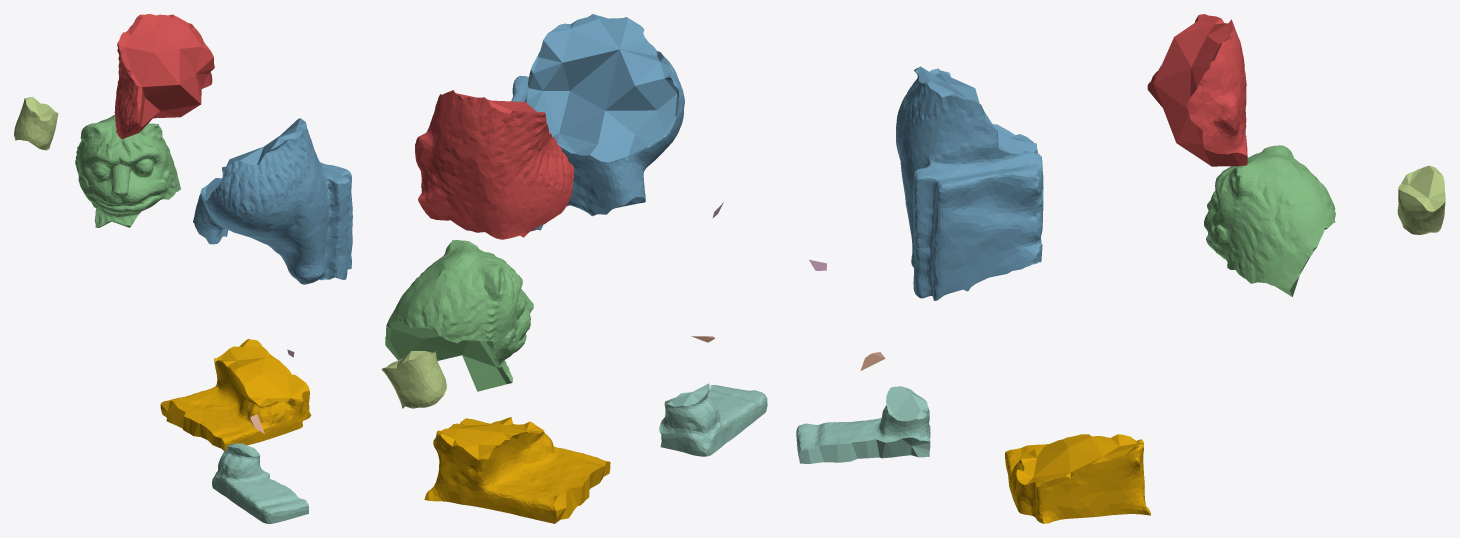
The model's file is mode_6_8pcs_transformed.glb.
The picture shows the model from 3 angles, left to right: view 1: azimuth 30°, elevation 25°; view 2: azimuth 150°, elevation 25°; view 3: azimuth 270°, elevation 25°; orthographic projection. The views are drawn at different scales.
Visible parts, largest first — view 1: piece_2.obj, piece_0.obj, piece_1.obj, piece_3.obj, piece_4.obj, piece_5.obj; view 2: piece_2.obj, piece_1.obj, piece_3.obj, piece_0.obj, piece_4.obj, piece_5.obj; view 3: piece_2.obj, piece_3.obj, piece_1.obj, piece_0.obj, piece_4.obj, piece_5.obj.
Boxes of the visible parts, <box> form: piece_2.obj: <box>193,118,352,284</box>; piece_0.obj: <box>160,339,311,451</box>; piece_1.obj: <box>114,14,214,139</box>; piece_3.obj: <box>75,114,180,227</box>; piece_4.obj: <box>212,443,308,523</box>; piece_5.obj: <box>14,96,58,150</box>; piece_2.obj: <box>511,14,684,231</box>; piece_1.obj: <box>415,90,573,239</box>; piece_3.obj: <box>385,240,533,391</box>; piece_0.obj: <box>424,417,610,523</box>; piece_4.obj: <box>659,383,767,456</box>; piece_5.obj: <box>381,351,446,408</box>; piece_2.obj: <box>896,66,1043,300</box>; piece_3.obj: <box>1204,145,1335,296</box>; piece_1.obj: <box>1147,14,1247,166</box>; piece_0.obj: <box>1005,434,1150,523</box>; piece_4.obj: <box>796,386,930,463</box>; piece_5.obj: <box>1397,165,1445,234</box>.
Bounding box in the file's own units: 0.6128 × 1.44 × 1.89.
